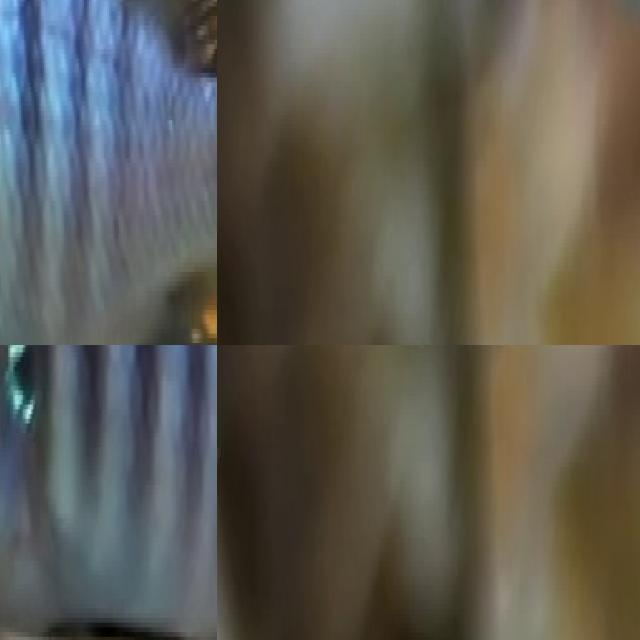fish: (0, 0, 217, 345), (0, 345, 217, 640)
